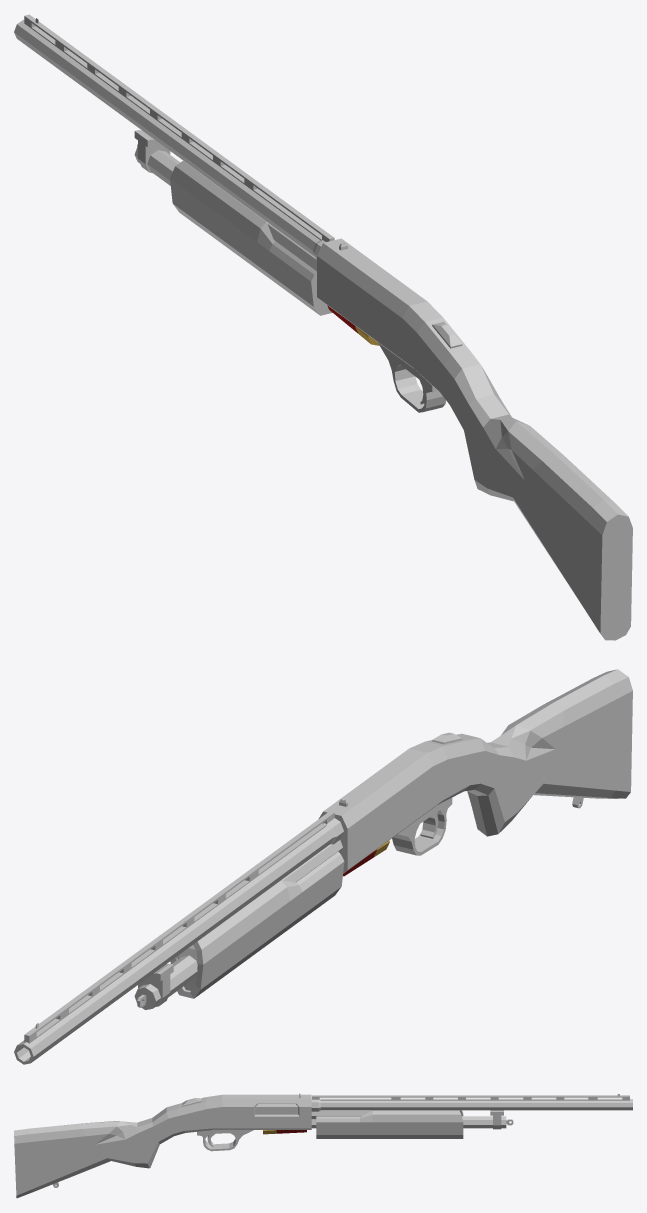
File: SM_ShotgunMossberg.fbx
3 renders of one model, top to bottom at view 1: azimuth 30°, elevation 25°; view 2: azimuth 150°, elevation 25°; view 3: azimuth 270°, elevation 25°, orthographic. The views are drawn at different scales.
Visible parts, largest first — view 1: SM_ShotgunMossberg, Pump; view 2: SM_ShotgunMossberg, Pump; view 3: SM_ShotgunMossberg, Pump.
Boxes of the visible parts, x1,y1,x2,y2 form: SM_ShotgunMossberg: (14, 14, 632, 640); Pump: (170, 160, 332, 315); SM_ShotgunMossberg: (14, 669, 632, 1064); Pump: (170, 851, 344, 998); SM_ShotgunMossberg: (14, 1093, 632, 1198); Pump: (316, 1110, 463, 1138).
Bounding box in the file's own units: 0.0321 × 0.1825 × 0.99.
